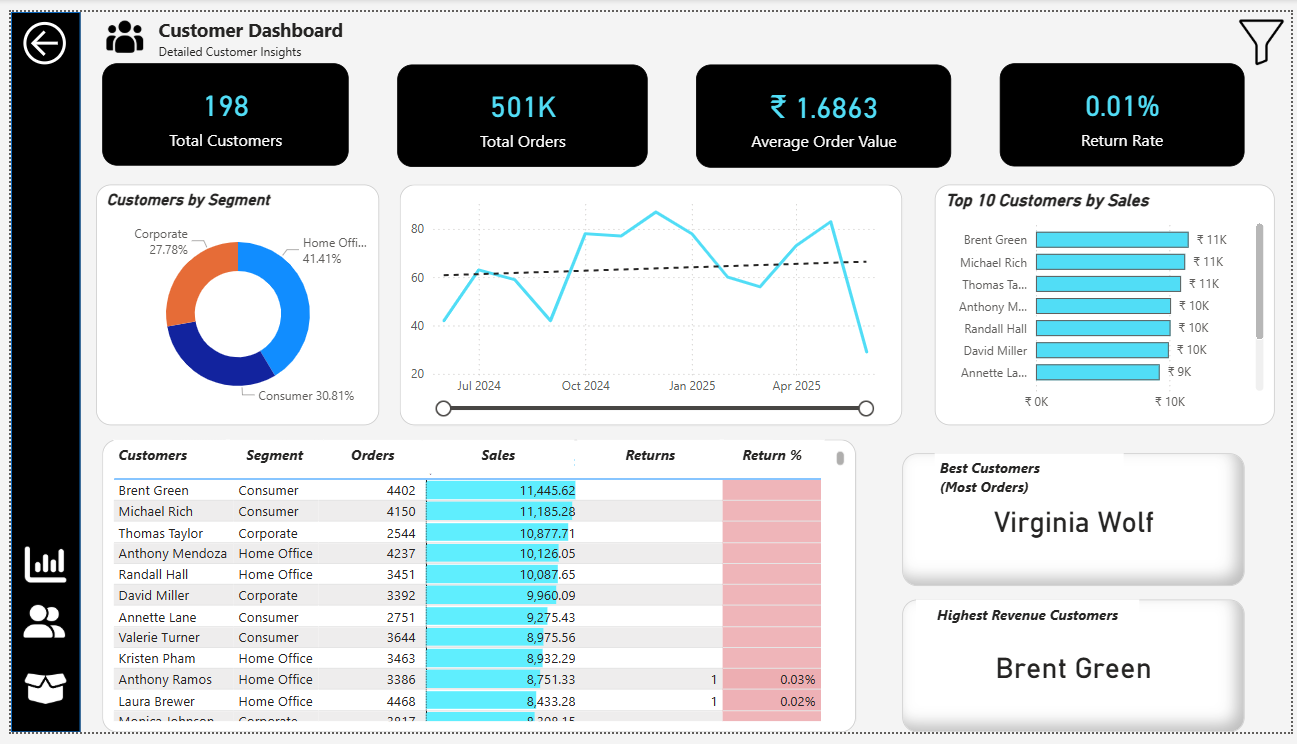

The dashboard page shown, as its layout file describes it:
{"tool":"powerbi","page":{"name":"Customers","canvas":[1280,720],"ordinal":1},"visuals":[{"type":"shape","box":[0,0,69.5,720.3],"z":0},{"type":"card","fields":{"Values":["Measure.Total Customers"]},"box":[91.8,51,246.6,102.7],"z":1000},{"type":"card","fields":{"Values":["Measure.Total Orders"]},"box":[386.8,52.1,250.7,102.7],"z":2000},{"type":"card","fields":{"Values":["Measure.Average Order Value"]},"box":[684.9,52.5,255.5,103.3],"z":3000},{"type":"card","fields":{"Values":["Measure.Return Rate"]},"box":[989.4,50.7,244.6,103.3],"z":4000},{"type":"donutChart","title":"Customers by Segment","fields":{"Category":["Customer_Dim.Segment"],"Y":["Measure.Total Customers"]},"box":[84.9,172.6,283.6,241.1],"z":5000},{"type":"lineChart","title":"Customers ","fields":{"Category":["Date_Dim.Data Hierarchy.Start of Month","Date_Dim.Data Hierarchy.Start of Week","Date_Dim.Data Hierarchy.Start of Year"],"Y":["Measure.Total Customers"]},"box":[389,172.6,502.7,241.1],"z":6000},{"type":"clusteredBarChart","title":"Top 10 Customers by Sales","fields":{"Category":["Customer_Dim.Full Name"],"Y":["Measure.Total sales"]},"box":[923.3,172.6,339.7,241.1],"z":7000},{"type":"tableEx","fields":{"Values":["Customer_Dim.Full Name","Customer_Dim.Segment","Measure.Total Orders","Sum(Sales_Fact.TotalAmount)","CountNonNull(Returns_Fact.ReturnID)","Measure.Return Rate"]},"box":[91.8,427.4,753.4,293.2],"z":8000},{"type":"textbox","box":[102.5,427.5,116.2,32.5],"z":9000},{"type":"textbox","box":[215.1,427.4,97.3,32.9],"z":10000},{"type":"textbox","box":[312.3,427.4,98.6,32.9],"z":11000},{"type":"card","fields":{"Values":["Min(Customer_Dim.Full Name)"]},"box":[891.8,441.1,342.5,132.9],"z":12000},{"type":"card","fields":{"Values":["Min(Customer_Dim.Full Name)"]},"box":[891.8,587.7,342.5,132.9],"z":13000},{"type":"textbox","box":[923.3,441.1,189,50.7],"z":14000},{"type":"textbox","box":[905.5,587.7,223.3,42.5],"z":15000},{"type":"textbox","box":[411,427.4,152.1,34.2],"z":16000},{"type":"textbox","box":[566.2,427.5,146.2,35],"z":17000},{"type":"textbox","box":[708.8,427.5,105,33.8],"z":18000},{"type":"textbox","box":[142.6,0,233.7,59.9],"z":19000},{"type":"image","box":[84.9,6.8,57.5,37],"z":20000},{"type":"image","box":[1221.4,7.1,58.6,45.7],"z":21000},{"type":"actionButton","box":[6.8,4.1,54.8,54.8],"z":22000},{"type":"image","box":[14.3,657.1,41.4,38.6],"z":23000},{"type":"image","box":[12.9,590.7,41.4,35.7],"z":24000},{"type":"image","box":[14.3,534.3,41.4,37.1],"z":25000}]}

Visuals, with their boxes on the page's 1280x720 design canvas (x1, y1, x2, y2). These are canvas units, not pixel positions in the 1297x744 screenshot, which may show the page scaled, cropped or inside an application window:
shape: {"x1": 0, "y1": 0, "x2": 70, "y2": 720}
card - Measure.Total Customers: {"x1": 92, "y1": 51, "x2": 338, "y2": 154}
card - Measure.Total Orders: {"x1": 387, "y1": 52, "x2": 638, "y2": 155}
card - Measure.Average Order Value: {"x1": 685, "y1": 52, "x2": 940, "y2": 156}
card - Measure.Return Rate: {"x1": 989, "y1": 51, "x2": 1234, "y2": 154}
"Customers by Segment" donutChart: {"x1": 85, "y1": 173, "x2": 368, "y2": 414}
"Customers " lineChart: {"x1": 389, "y1": 173, "x2": 892, "y2": 414}
"Top 10 Customers by Sales" clusteredBarChart: {"x1": 923, "y1": 173, "x2": 1263, "y2": 414}
tableEx - Customer_Dim.Full Name x Customer_Dim.Segment: {"x1": 92, "y1": 427, "x2": 845, "y2": 721}
textbox: {"x1": 102, "y1": 428, "x2": 219, "y2": 460}
textbox: {"x1": 215, "y1": 427, "x2": 312, "y2": 460}
textbox: {"x1": 312, "y1": 427, "x2": 411, "y2": 460}
card - Min(Customer_Dim.Full Name): {"x1": 892, "y1": 441, "x2": 1234, "y2": 574}
card - Min(Customer_Dim.Full Name): {"x1": 892, "y1": 588, "x2": 1234, "y2": 721}
textbox: {"x1": 923, "y1": 441, "x2": 1112, "y2": 492}
textbox: {"x1": 906, "y1": 588, "x2": 1129, "y2": 630}
textbox: {"x1": 411, "y1": 427, "x2": 563, "y2": 462}
textbox: {"x1": 566, "y1": 428, "x2": 712, "y2": 462}
textbox: {"x1": 709, "y1": 428, "x2": 814, "y2": 461}
textbox: {"x1": 143, "y1": 0, "x2": 376, "y2": 60}
image: {"x1": 85, "y1": 7, "x2": 142, "y2": 44}
image: {"x1": 1221, "y1": 7, "x2": 1280, "y2": 53}
actionButton: {"x1": 7, "y1": 4, "x2": 62, "y2": 59}
image: {"x1": 14, "y1": 657, "x2": 56, "y2": 696}
image: {"x1": 13, "y1": 591, "x2": 54, "y2": 626}
image: {"x1": 14, "y1": 534, "x2": 56, "y2": 571}
